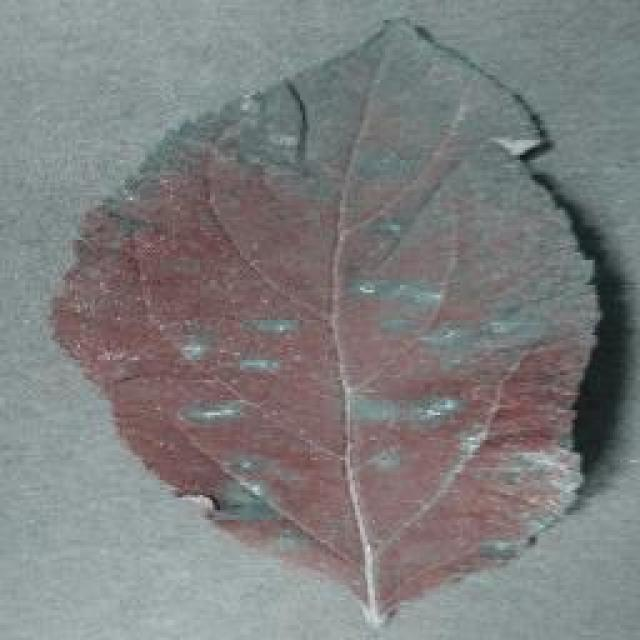Apple___Cedar_apple_rust: (43, 15, 605, 633)
